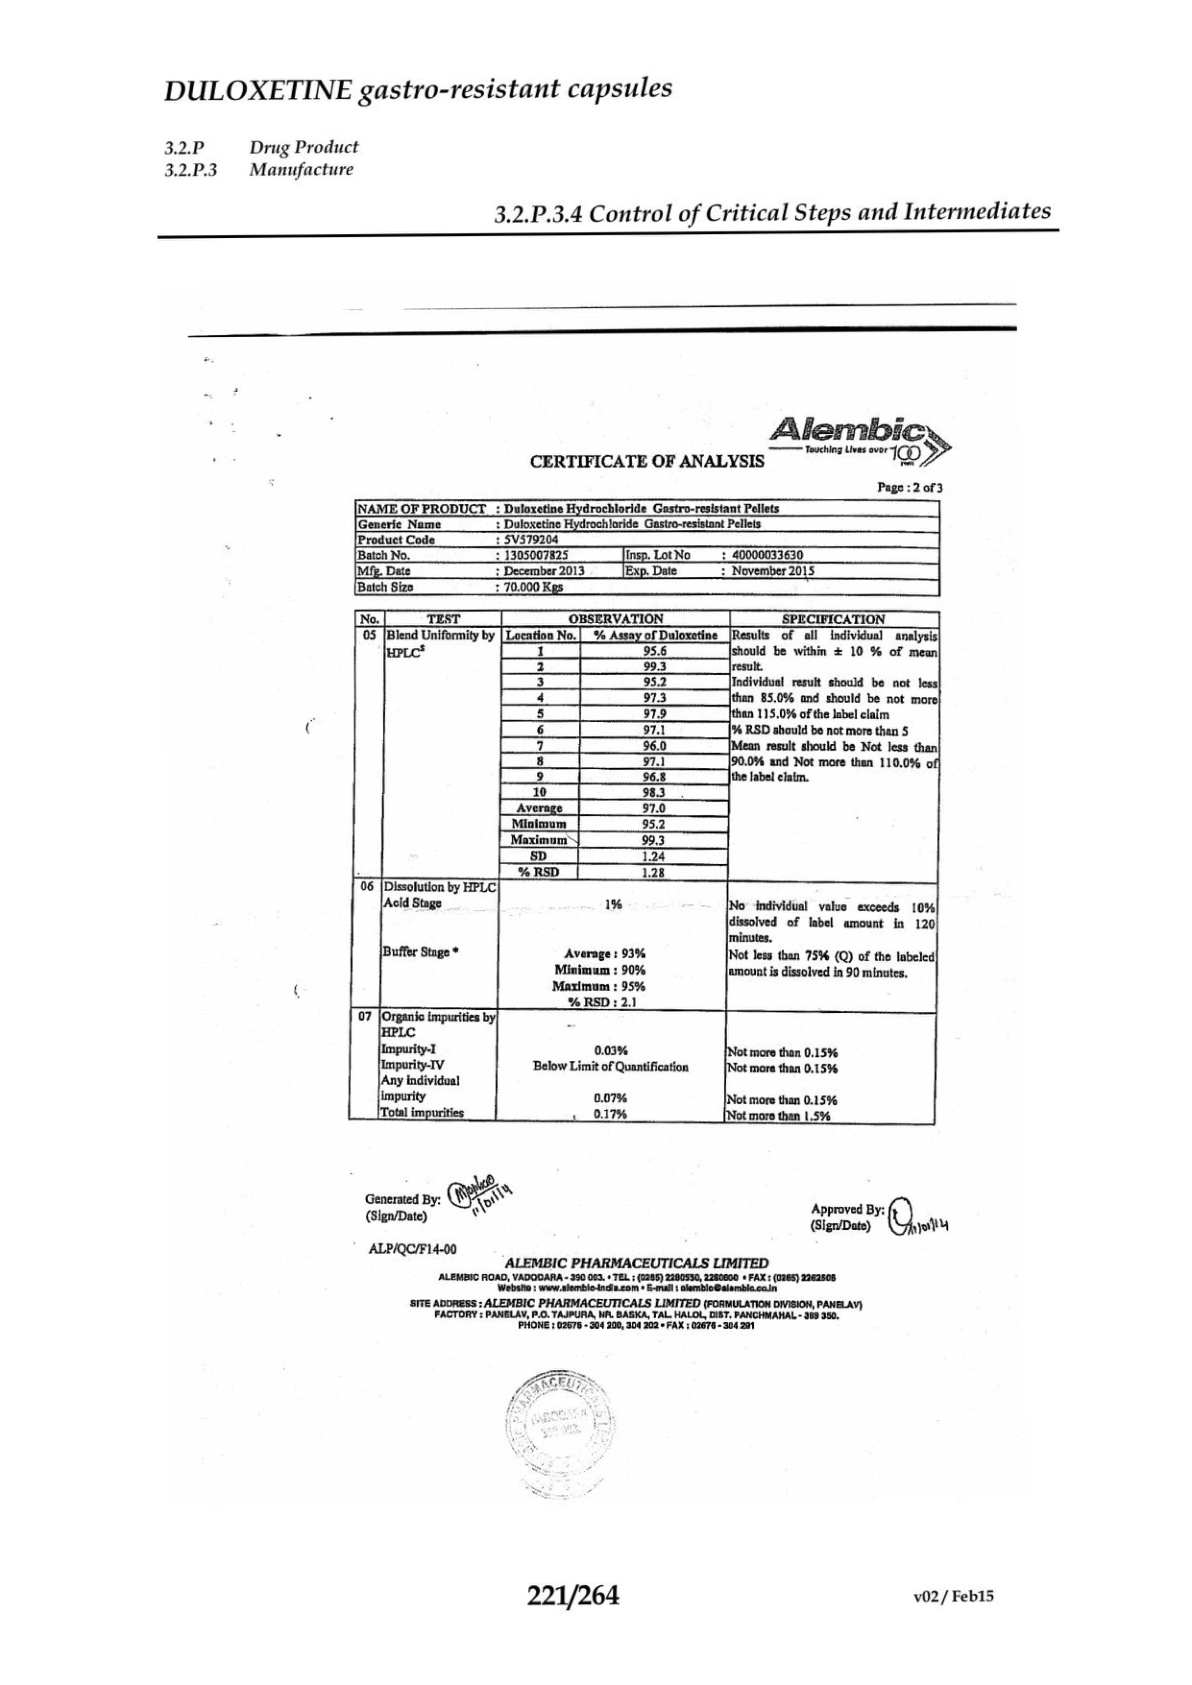full_lined: (353, 498, 940, 597)
merged_cells: (346, 609, 940, 1128)
